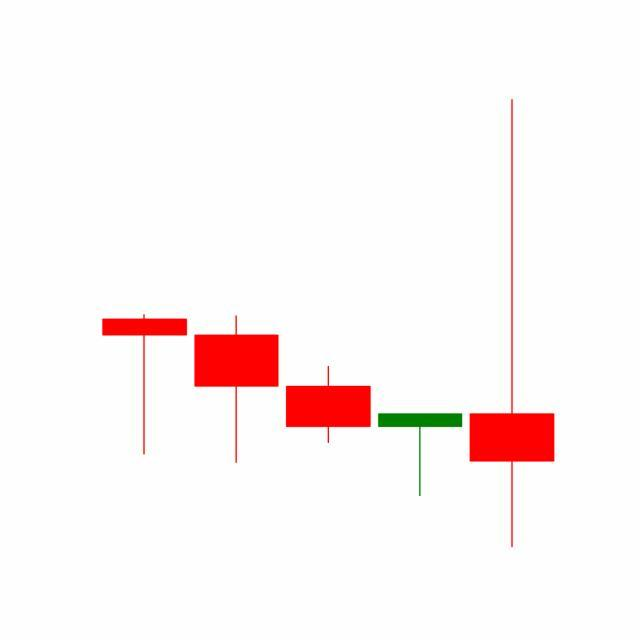Hammer: (374, 413, 468, 499)
